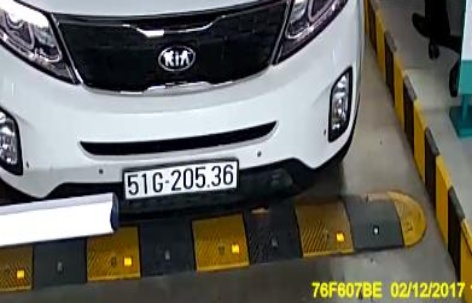plate: (124, 165, 238, 198)
